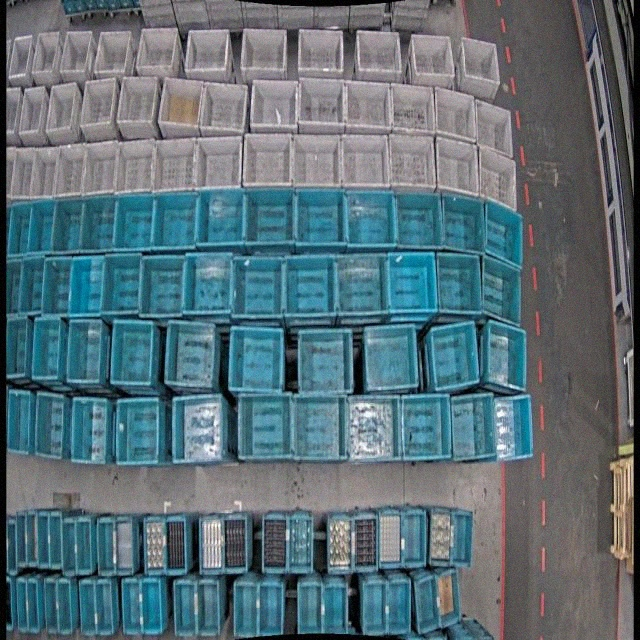Box: (296, 328, 354, 398), (228, 324, 284, 394), (364, 322, 419, 392), (345, 395, 399, 464), (240, 393, 294, 461), (172, 394, 224, 464), (335, 252, 389, 319), (430, 320, 480, 392), (284, 254, 339, 319), (400, 392, 451, 462), (294, 187, 348, 250), (293, 394, 343, 462), (166, 321, 215, 390), (388, 250, 439, 316), (234, 254, 286, 318), (452, 392, 499, 462), (183, 252, 233, 316), (435, 251, 483, 317), (345, 188, 395, 251), (246, 188, 298, 248), (197, 188, 247, 249), (395, 189, 444, 251), (390, 133, 438, 196), (440, 192, 487, 256), (340, 134, 389, 194), (475, 148, 520, 213), (112, 320, 156, 386), (118, 396, 160, 465), (493, 395, 536, 461), (154, 190, 201, 250), (488, 320, 526, 394), (482, 256, 521, 328), (139, 255, 184, 317), (433, 137, 478, 198), (250, 78, 299, 134), (298, 76, 348, 130), (292, 132, 341, 187), (195, 135, 243, 191), (485, 199, 523, 269), (198, 81, 248, 134), (243, 133, 292, 187), (70, 396, 110, 462), (343, 78, 391, 132), (390, 82, 438, 135), (102, 253, 142, 316), (434, 86, 478, 142), (134, 24, 178, 79), (115, 193, 156, 252), (153, 138, 197, 192), (66, 319, 103, 383), (158, 77, 204, 128), (114, 138, 155, 194), (476, 99, 514, 158), (92, 27, 134, 80), (71, 256, 106, 317), (82, 142, 120, 198), (82, 195, 118, 252), (34, 393, 65, 459), (28, 29, 65, 84), (53, 144, 89, 200), (298, 28, 344, 71), (116, 76, 157, 124), (461, 37, 502, 84), (240, 29, 287, 70), (32, 317, 62, 381), (52, 196, 85, 254), (28, 146, 62, 201), (357, 31, 402, 72), (185, 30, 228, 72), (411, 34, 455, 75), (80, 78, 116, 126), (44, 257, 73, 316), (4, 316, 30, 379), (286, 512, 312, 574), (27, 197, 55, 254), (46, 82, 77, 133), (402, 508, 428, 568), (330, 512, 355, 574), (429, 506, 454, 567), (6, 36, 34, 90), (352, 514, 378, 572), (20, 257, 46, 315), (378, 509, 403, 569), (6, 390, 29, 455), (264, 512, 288, 573), (18, 86, 46, 137), (60, 30, 94, 72), (416, 575, 440, 634), (450, 511, 474, 570), (224, 514, 248, 572), (438, 569, 461, 629), (201, 515, 224, 574), (259, 583, 284, 637), (387, 580, 411, 635), (323, 582, 348, 634), (7, 201, 31, 255), (362, 584, 386, 638), (233, 584, 256, 640), (197, 581, 220, 636), (144, 514, 165, 574), (165, 514, 186, 574), (10, 148, 35, 198), (174, 581, 196, 637), (122, 577, 142, 636), (298, 585, 322, 634), (141, 580, 161, 634), (94, 580, 113, 636), (116, 515, 134, 574), (96, 516, 114, 574), (78, 579, 96, 635), (61, 518, 77, 576), (75, 515, 90, 573), (58, 578, 73, 635), (36, 509, 50, 568), (48, 510, 62, 568), (24, 510, 38, 567), (44, 578, 58, 634), (25, 578, 39, 634), (14, 511, 27, 569), (16, 578, 29, 632), (7, 87, 20, 135), (7, 519, 18, 575), (7, 146, 16, 199), (6, 578, 13, 631)
